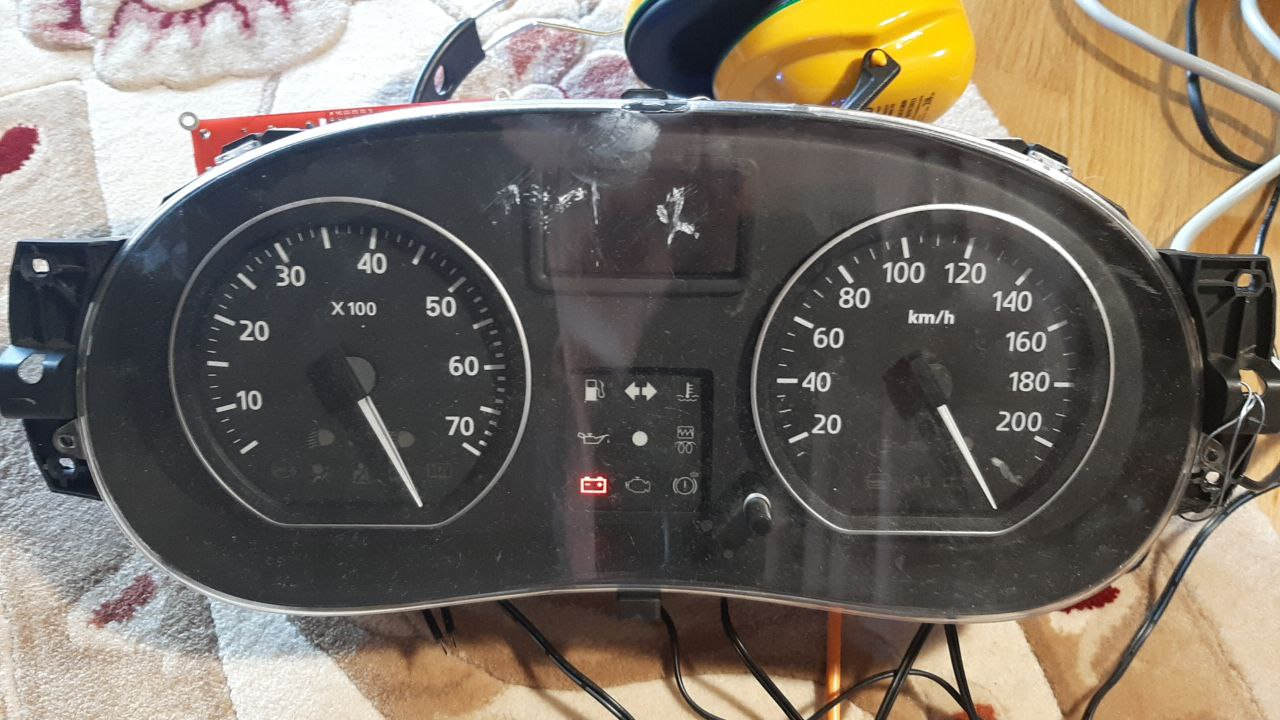accumulator: (576, 473, 611, 496)
